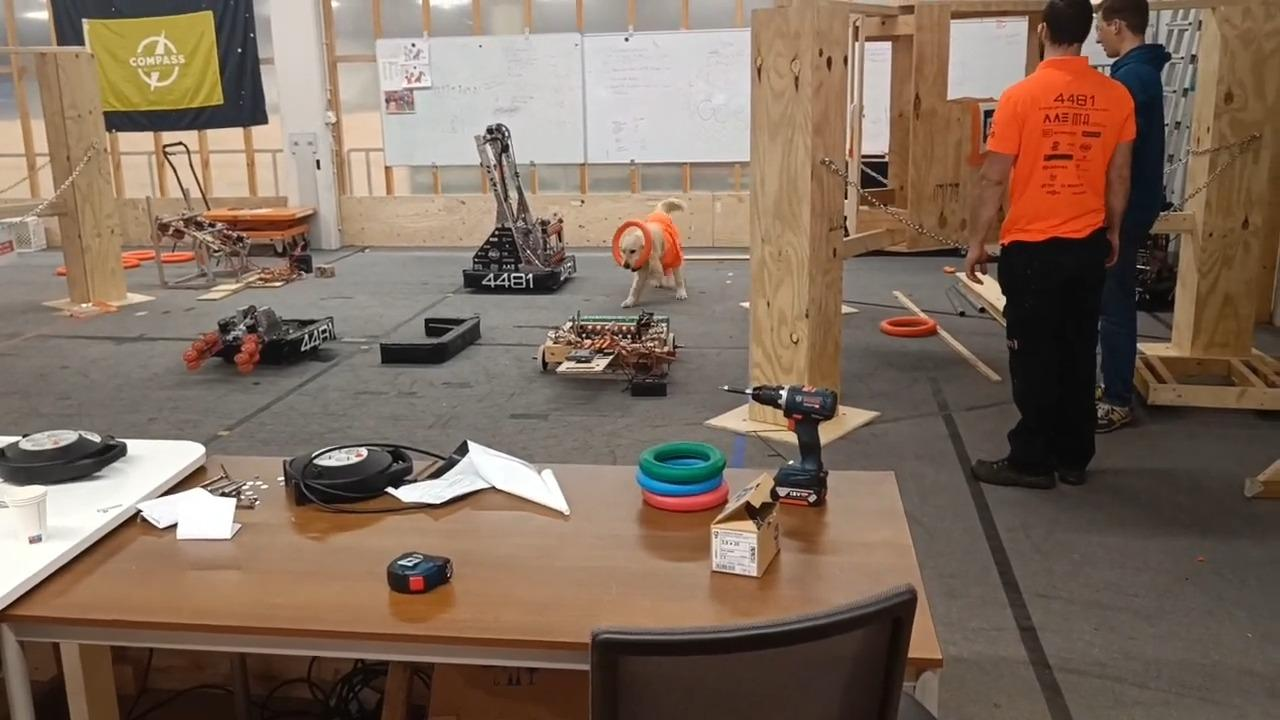robot: (459, 117, 578, 294), (181, 305, 340, 375)
